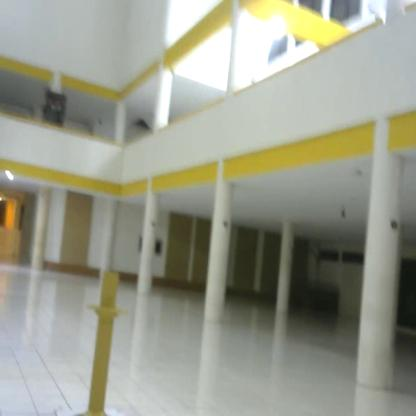pole: (76, 262, 133, 416)
